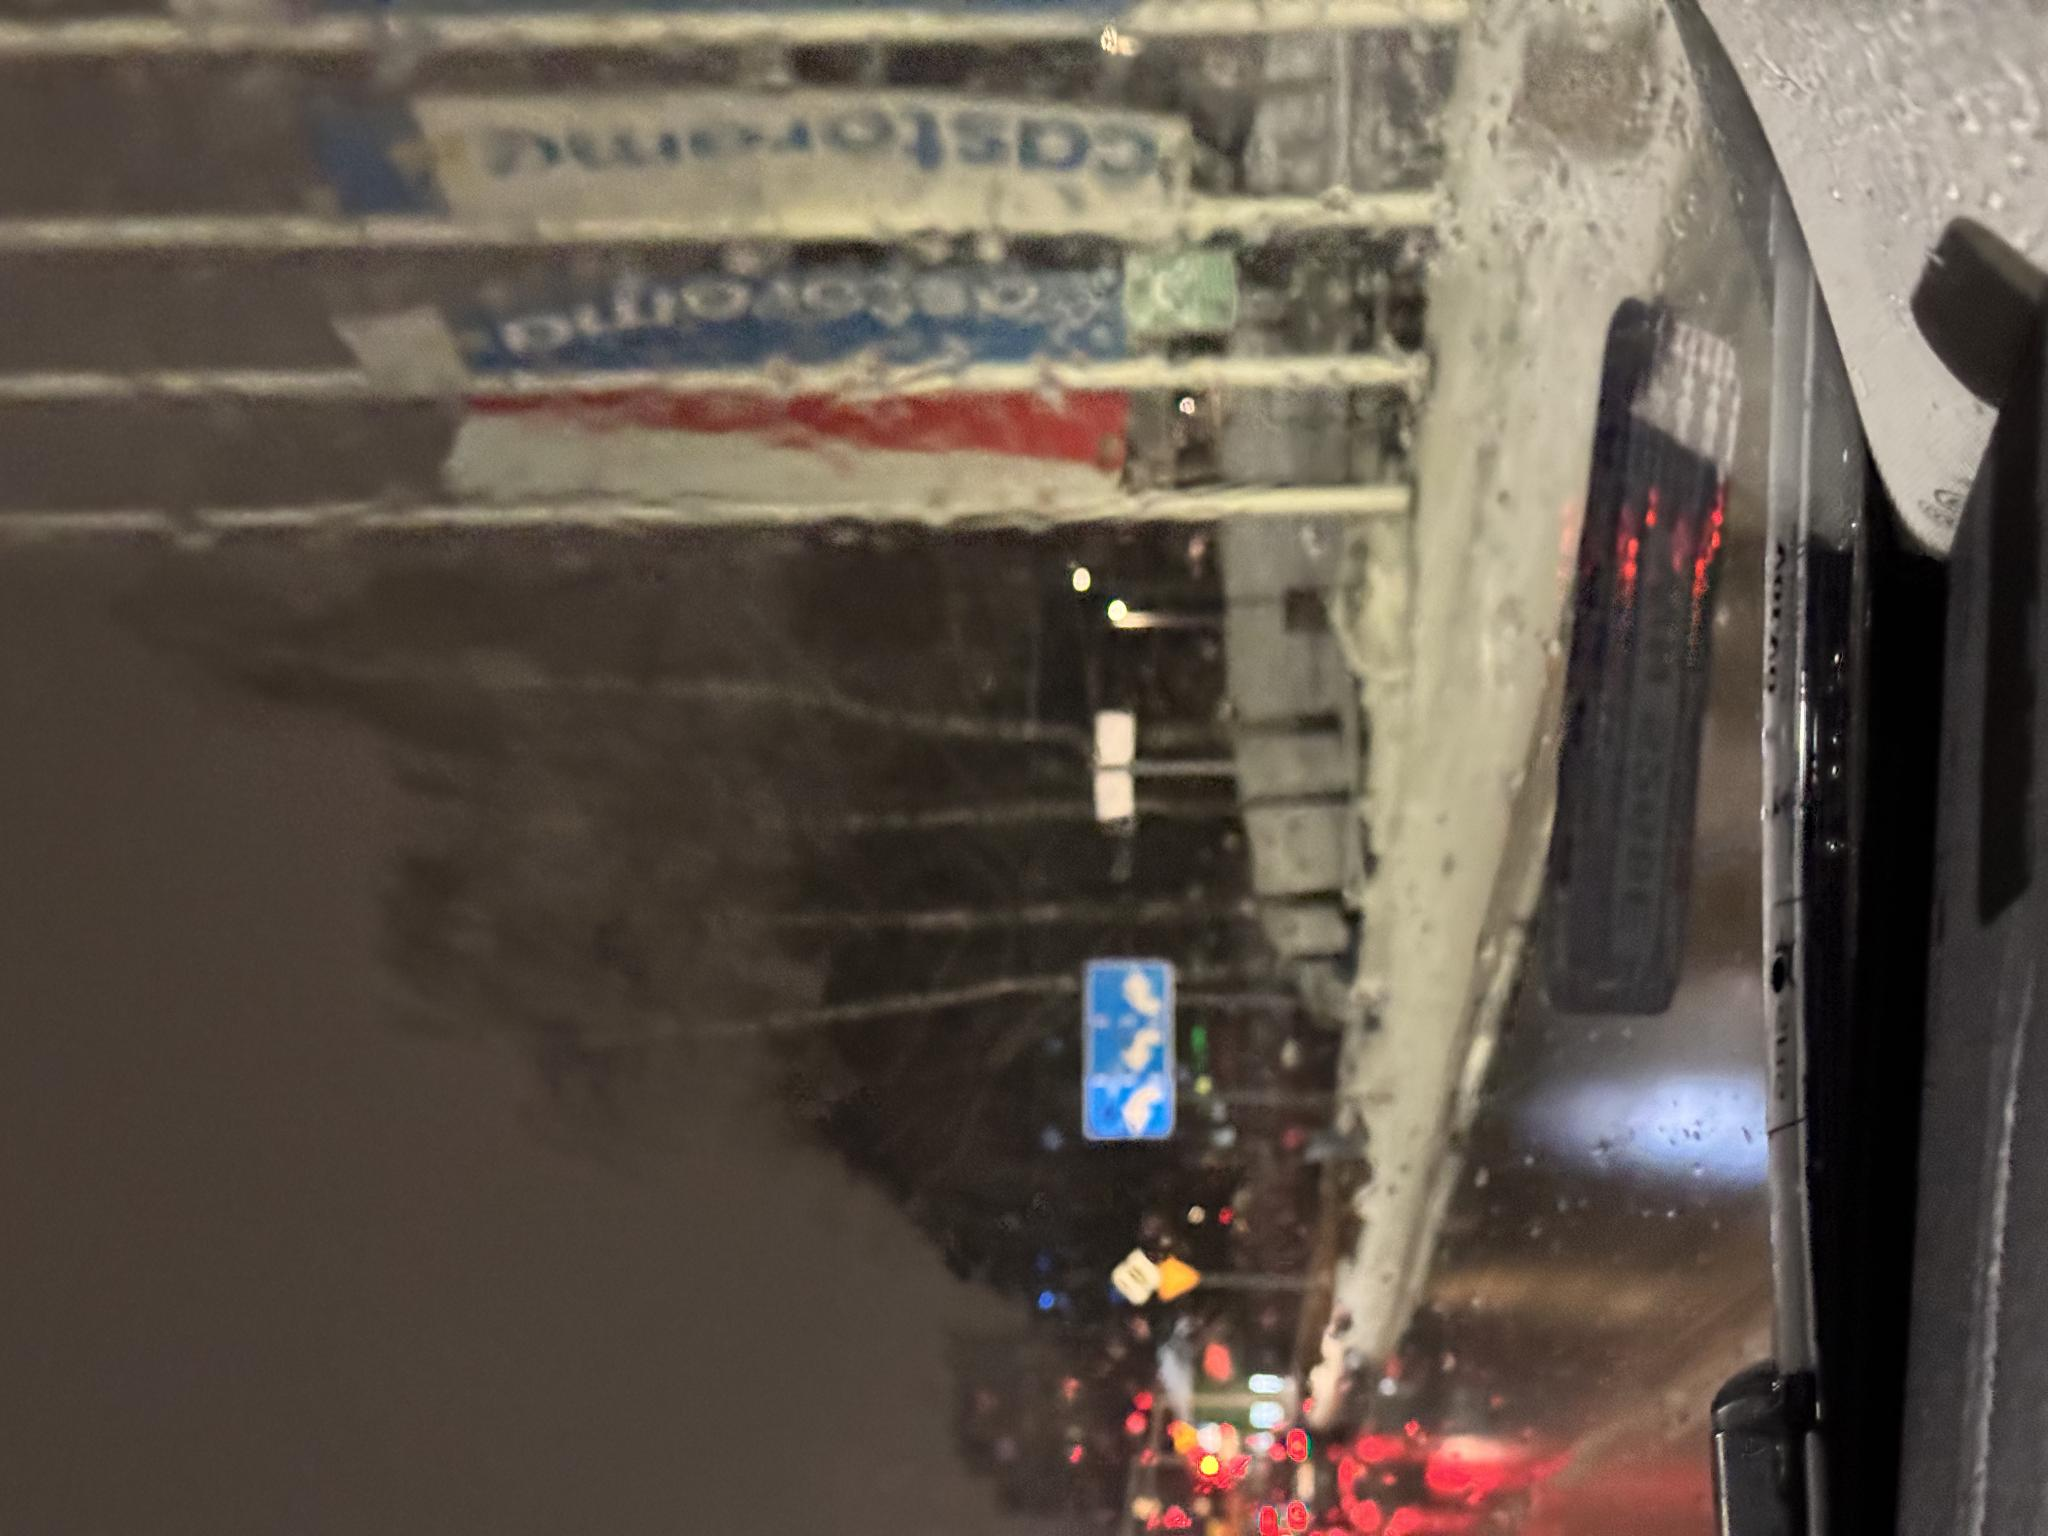information: (229, 1108, 287, 1160)
other: (393, 1079, 581, 1176)
warning: (235, 1158, 282, 1200)
